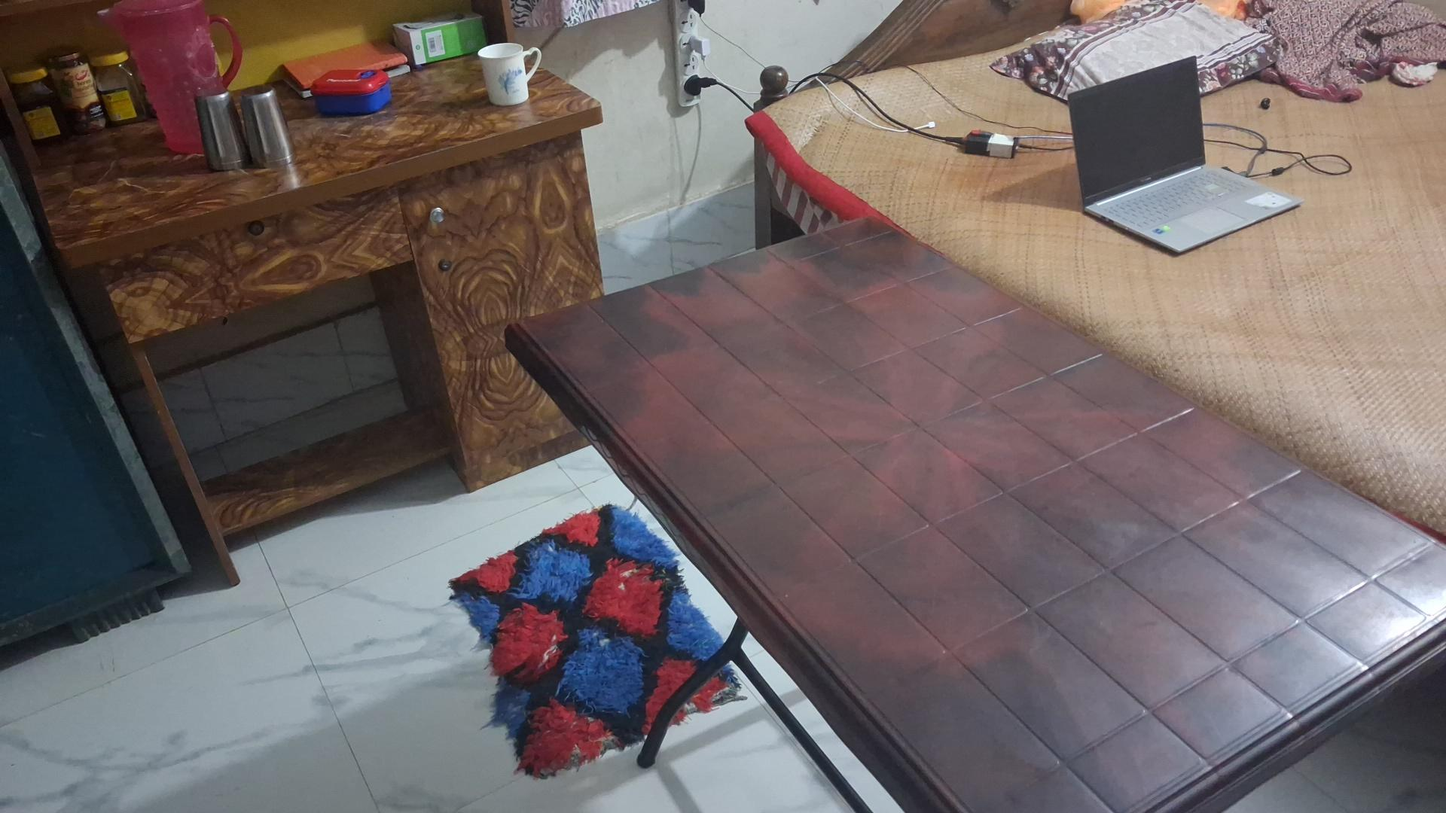Box: (393, 11, 488, 63)
Cup: (478, 42, 543, 106)
Floor Mat: (436, 504, 740, 773)
Glass: (238, 89, 297, 165), (191, 93, 246, 170)
Jar: (45, 53, 105, 132), (9, 68, 67, 143), (93, 47, 144, 126), (307, 71, 395, 116)
Jug: (115, 6, 240, 166)
Laptop: (1067, 54, 1305, 257)
Table: (507, 221, 1446, 813)
